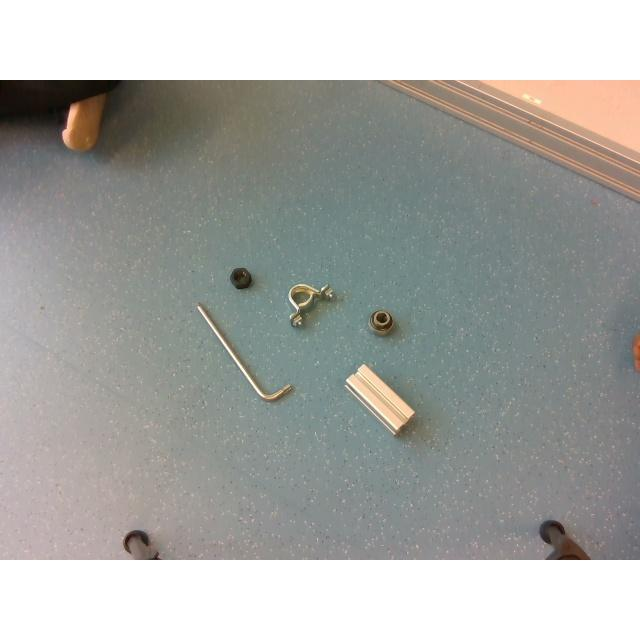AllenKey: (195, 303, 292, 401)
Bearing2: (369, 310, 393, 334)
Housing: (288, 282, 332, 326)
M20: (228, 268, 252, 288)
S40_40_G: (346, 364, 414, 434)
